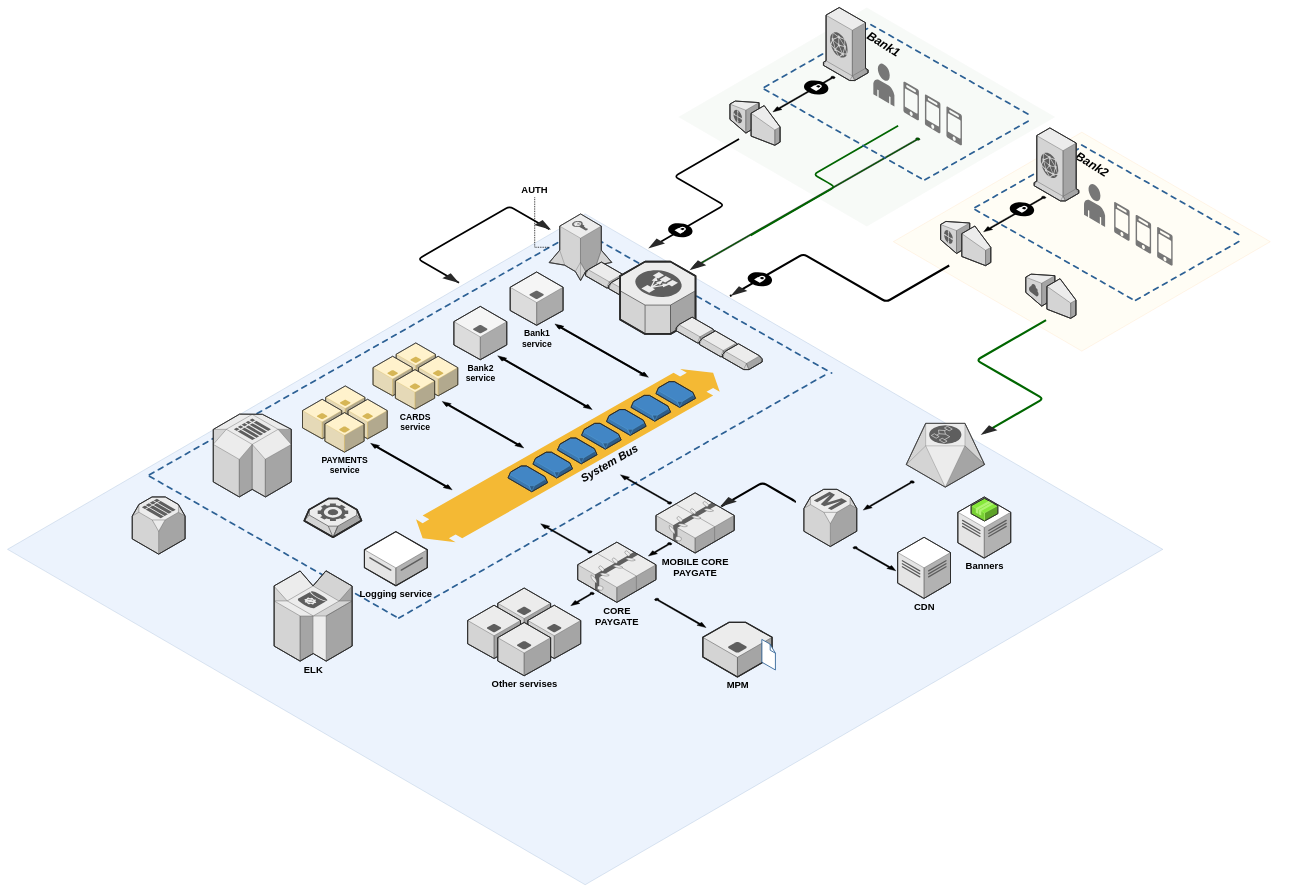
Some shapes in this 1312 by 892 pixel diagram are drawn without their labels. The shapes that lost their labels are listed below. From the top down, each one's centre as x and y in pixels, then its label:
the point at 658,297: 1. Routing service
the point at 252,455: 3. DB PGSQL
the point at 158,525: ClickHouse
the point at 333,517: Scheduler
the point at 830,518: Mobile Platform
the point at 768,654: Balance
